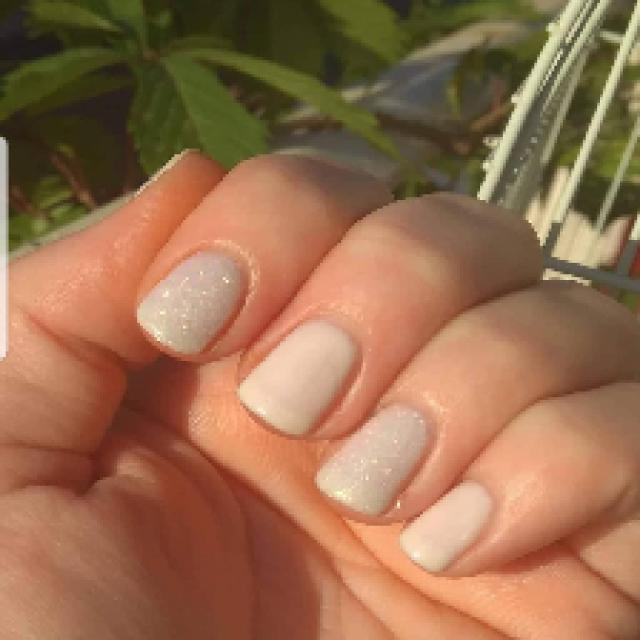Nail: (238, 319, 359, 436), (316, 405, 430, 516), (137, 250, 246, 357), (400, 481, 494, 572)
